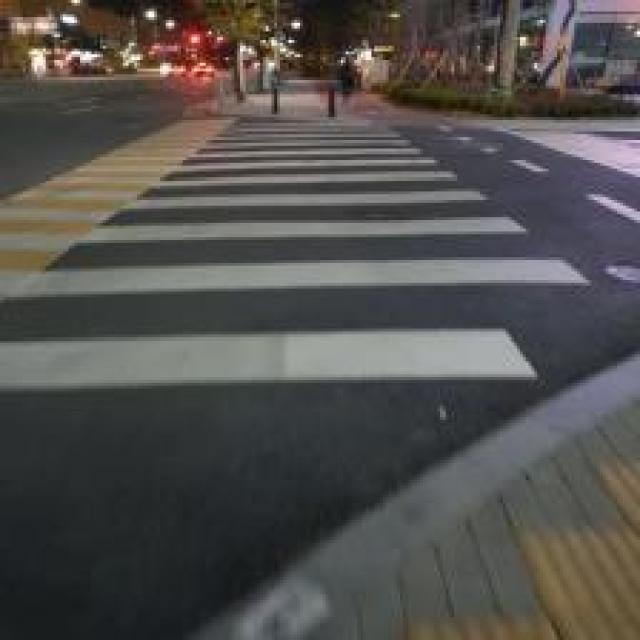walk-crossing: (109, 106, 580, 406)
